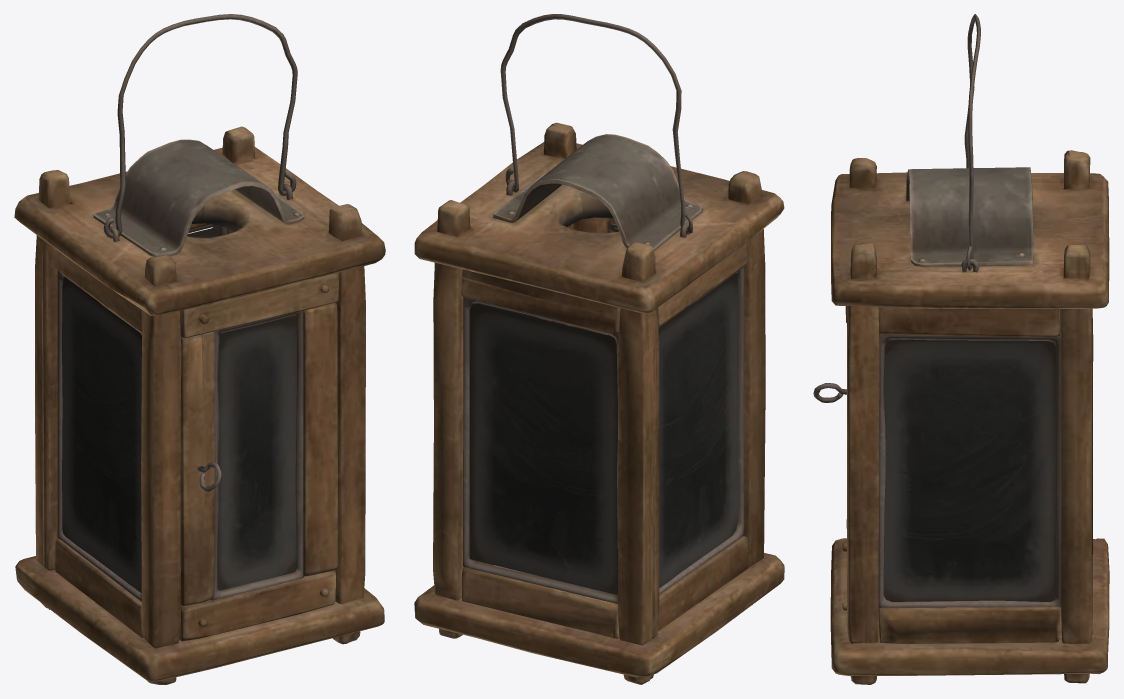
The model's file is wlantern.glb.
The picture shows the model from 3 angles, left to right: view 1: azimuth 30°, elevation 25°; view 2: azimuth 150°, elevation 25°; view 3: azimuth 270°, elevation 25°; orthographic projection.
Parts seen in each view (by area): view 1: wooden_lantern_01, wooden_lantern_01_door, wooden_lantern_01_handle; view 2: wooden_lantern_01, wooden_lantern_01_handle, wooden_lantern_01_door; view 3: wooden_lantern_01, wooden_lantern_01_handle, wooden_lantern_01_door.
Part boxes in pixels (x1,y1,x2,y2): wooden_lantern_01: (14,126,385,684); wooden_lantern_01_door: (179,272,339,641); wooden_lantern_01_handle: (103,14,297,238); wooden_lantern_01: (414,122,784,684); wooden_lantern_01_handle: (500,14,692,234); wooden_lantern_01_door: (573,217,618,336); wooden_lantern_01: (830,150,1109,684); wooden_lantern_01_handle: (964,14,980,270); wooden_lantern_01_door: (813,306,847,610).
Size of the model in its own units: 0.2211 by 0.5301 by 0.2347.
Materials: 2 (2 with a texture image).
